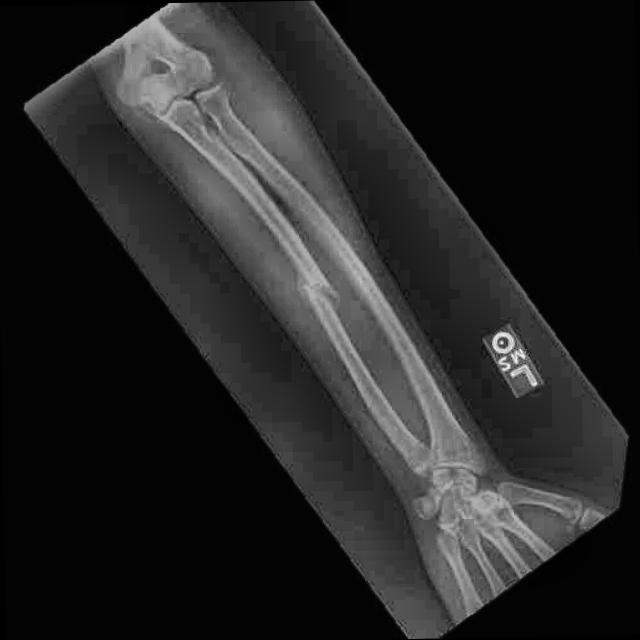forearm fracture: (270, 233, 360, 335)
